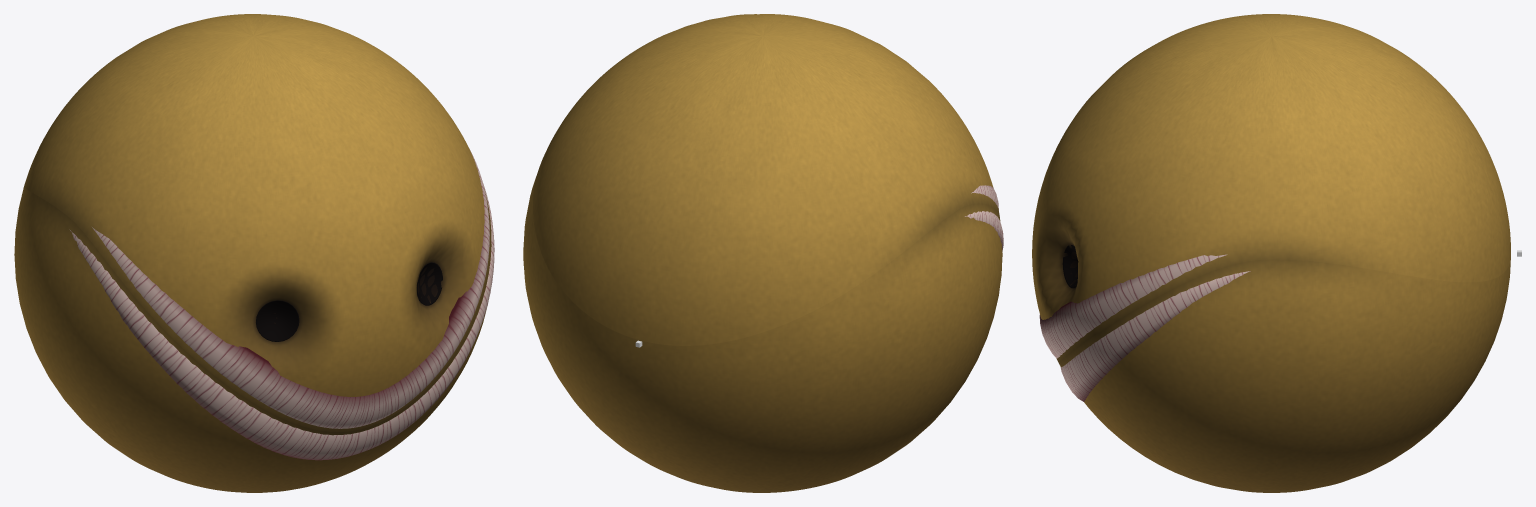
The model's file is verity_creepy.glb.
3 renders of one model, left to right at view 1: azimuth 30°, elevation 25°; view 2: azimuth 150°, elevation 25°; view 3: azimuth 270°, elevation 25°, orthographic.
Parts seen in each view (by area): view 1: VerityTop, VerityBottom, VerityEyes; view 2: VerityTop, VerityBottom; view 3: VerityTop, VerityBottom.
Part boxes in pixels (bbox=[...]): VerityTop: bbox=[24, 14, 494, 460]; VerityBottom: bbox=[14, 148, 491, 492]; VerityEyes: bbox=[256, 262, 442, 341]; VerityTop: bbox=[533, 14, 1003, 345]; VerityBottom: bbox=[523, 174, 1002, 492]; VerityTop: bbox=[1032, 14, 1510, 401]; VerityBottom: bbox=[1039, 254, 1510, 492].
Bounding box in the file's own units: 2 × 2 × 2.04.
1 material, 1 textured.
